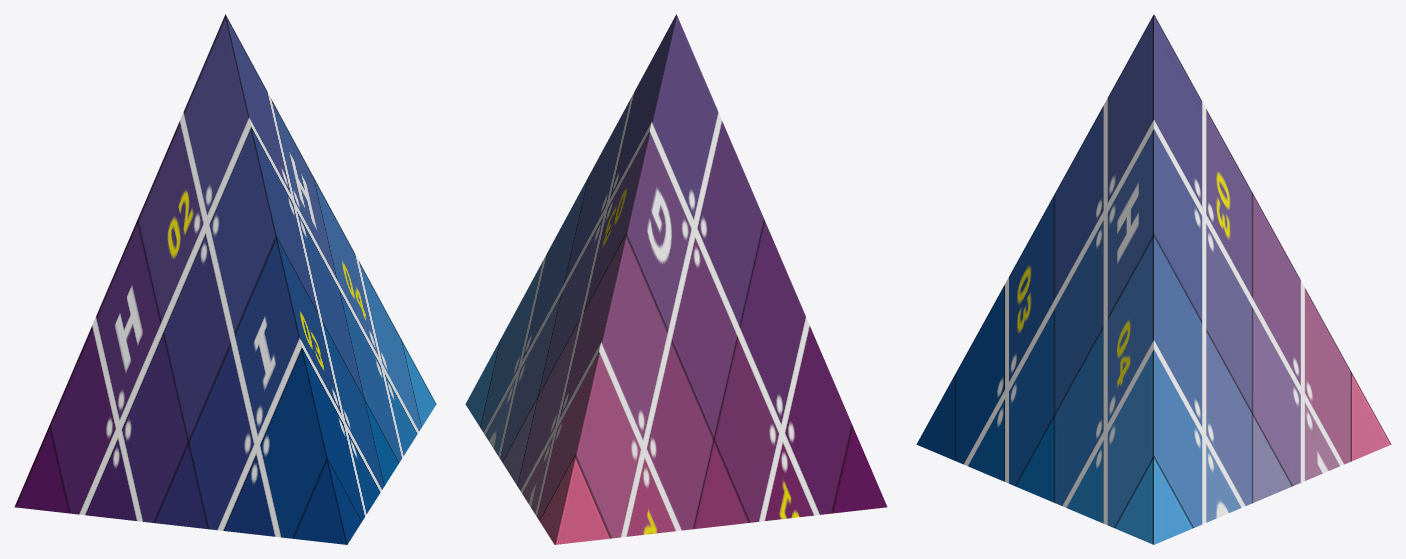
The picture shows the model from 3 angles, left to right: view 1: azimuth 30°, elevation 25°; view 2: azimuth 150°, elevation 25°; view 3: azimuth 270°, elevation 25°; orthographic projection. The views are drawn at different scales.
Visible parts, largest first — view 1: Cone; view 2: Cone; view 3: Cone.
Part boxes in pixels (box(x1,y1,x2,y2)): Cone: box(14, 14, 436, 544); Cone: box(465, 14, 887, 544); Cone: box(916, 14, 1391, 544).
Bounding box in the file's own units: 2 × 2 × 2.
1 material, 1 textured.
